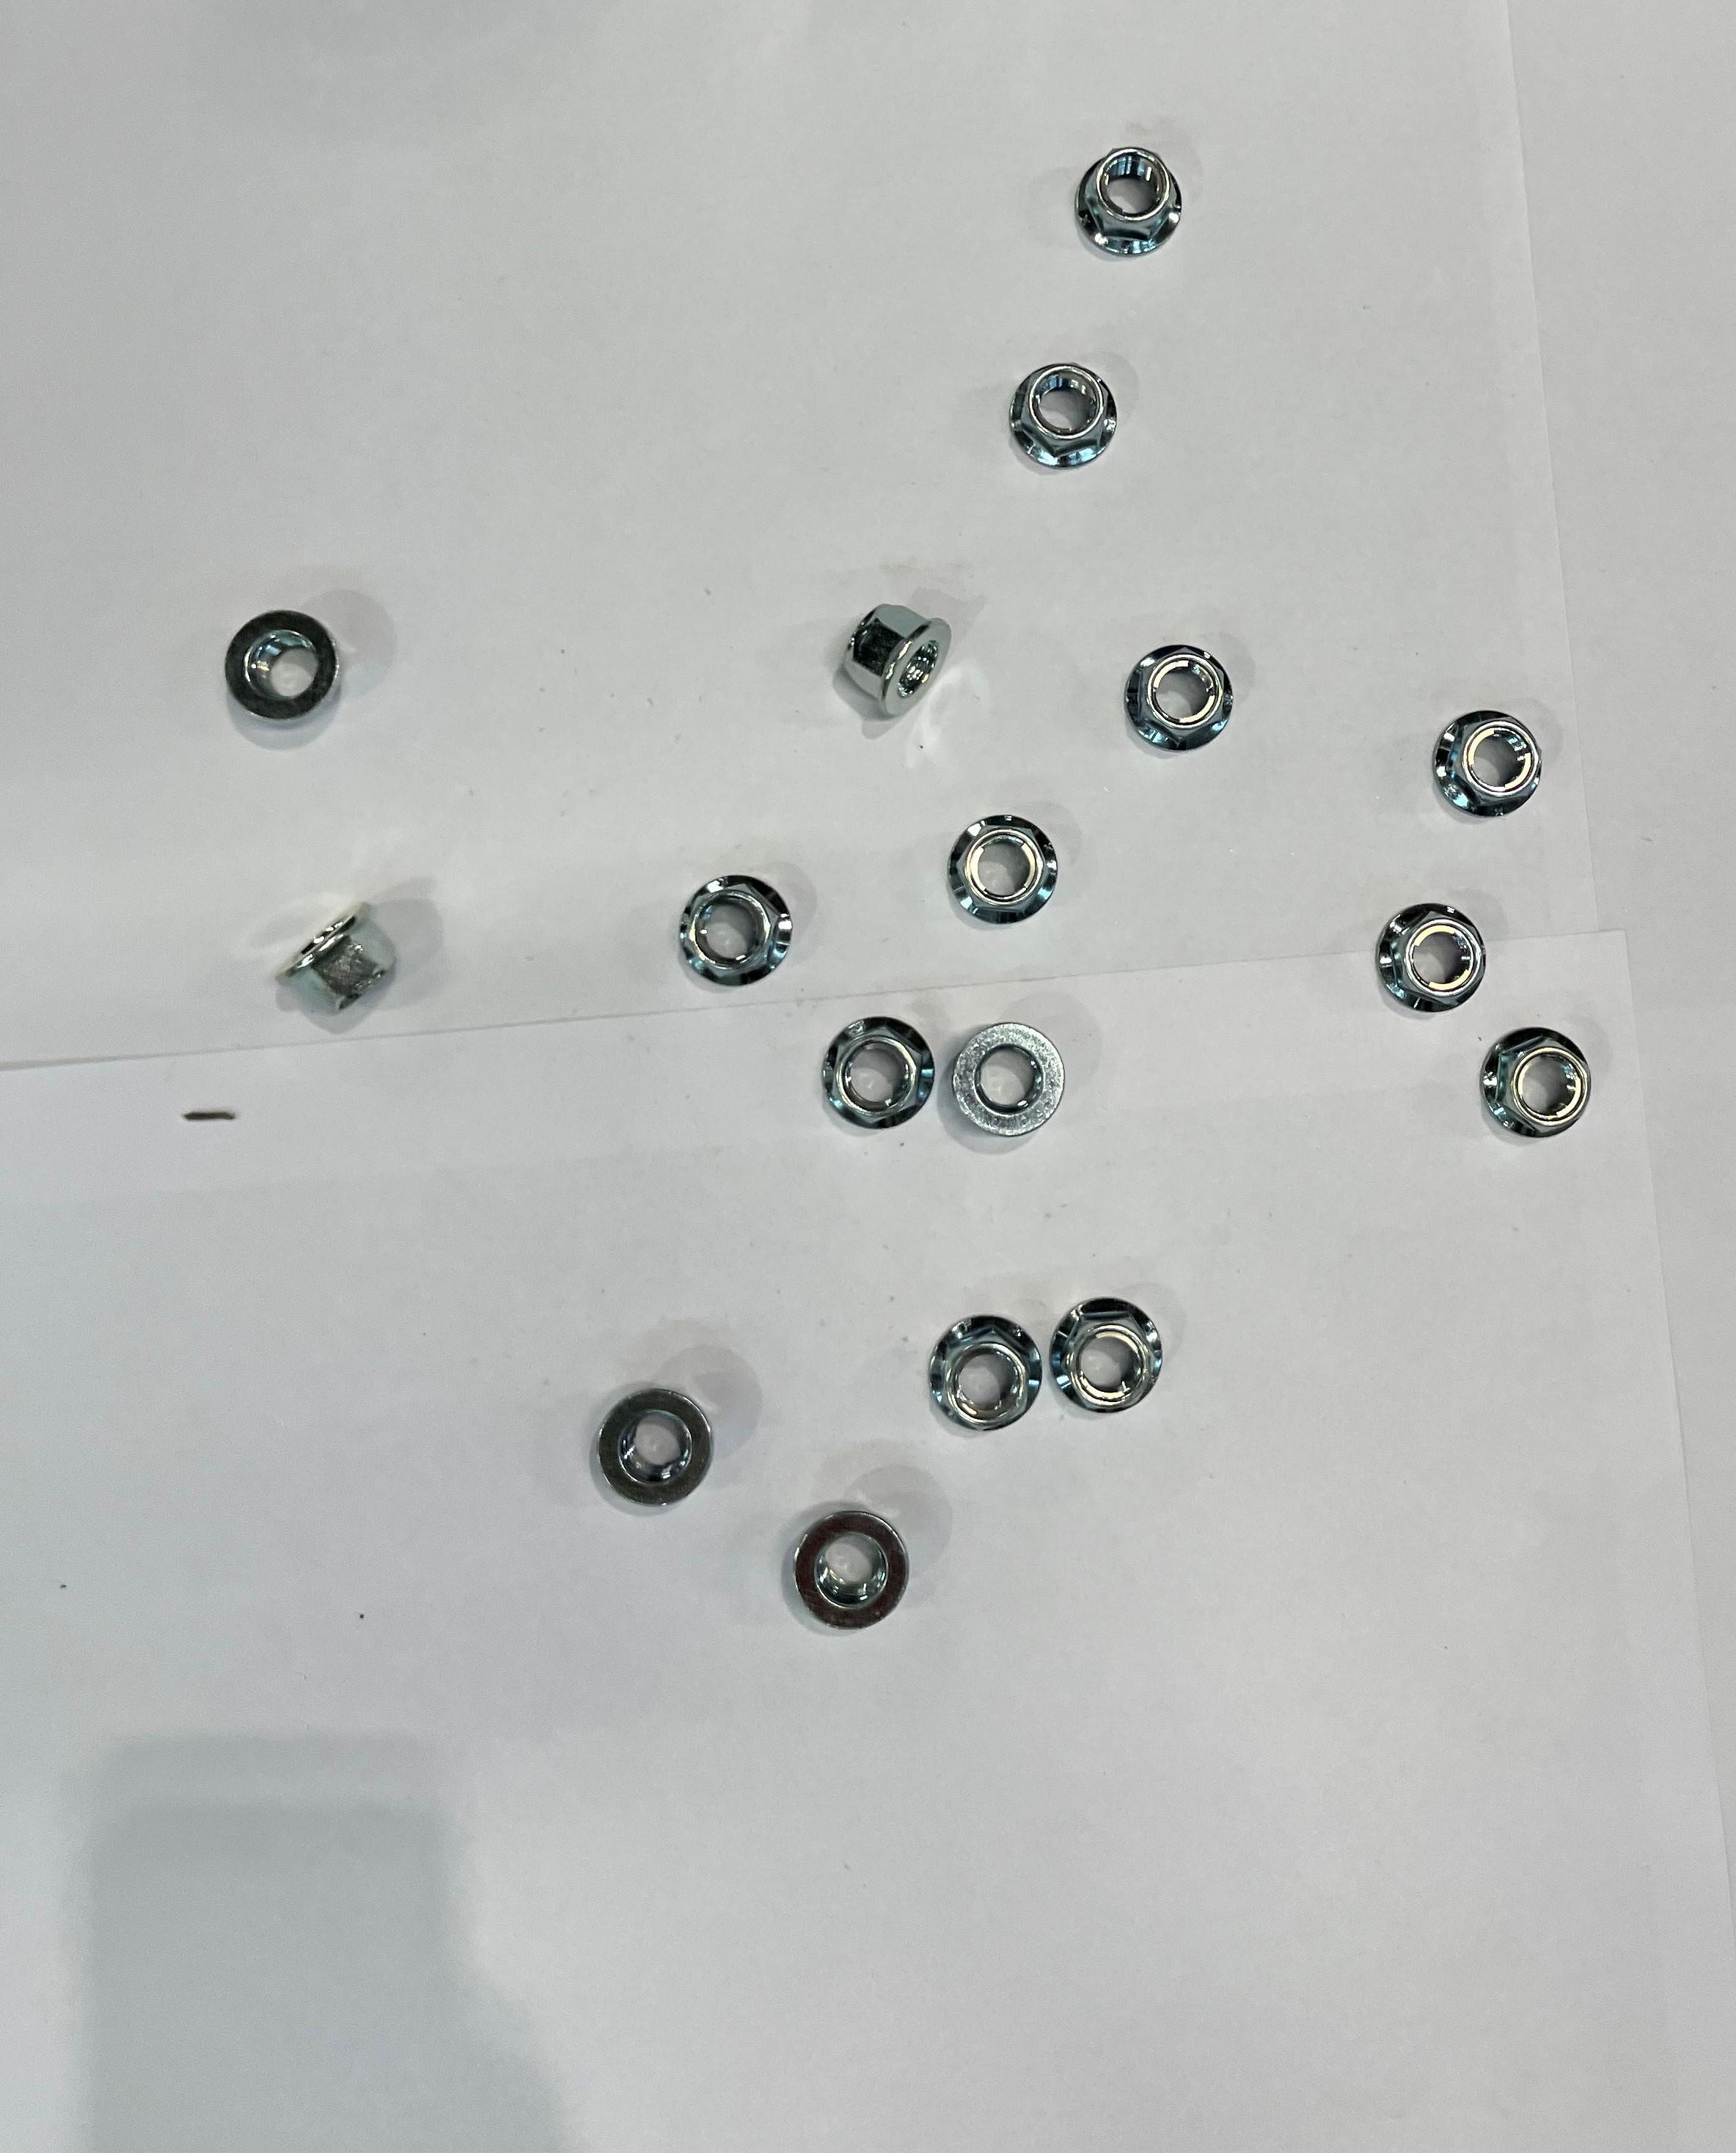Type B: (223, 611, 344, 731), (275, 901, 400, 1016), (597, 1392, 712, 1510), (930, 1314, 1043, 1432), (797, 1509, 907, 1631), (1049, 1298, 1160, 1416), (836, 604, 951, 717), (824, 1013, 934, 1131), (1433, 705, 1545, 816), (1375, 905, 1490, 1013), (949, 813, 1059, 924), (953, 1027, 1065, 1137), (1011, 363, 1121, 473), (680, 876, 790, 986), (1483, 1029, 1589, 1142), (1075, 150, 1185, 259), (1121, 644, 1229, 751)
